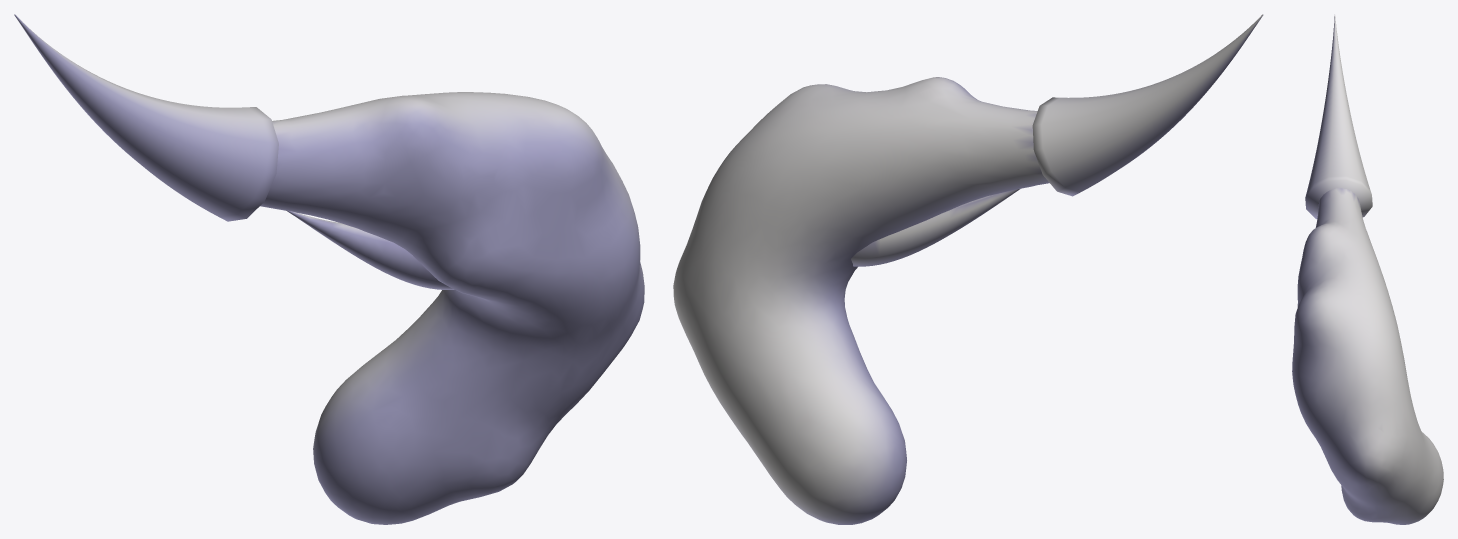
Rendered from gear5_corrente_b.fbx.
The picture shows the model from 3 angles, left to right: view 1: azimuth 30°, elevation 25°; view 2: azimuth 150°, elevation 25°; view 3: azimuth 270°, elevation 25°; orthographic projection. The views are drawn at different scales.
Visible parts, largest first — view 1: gear5_corrente_b; view 2: gear5_corrente_b; view 3: gear5_corrente_b.
Part boxes in pixels (bbox=[...]): gear5_corrente_b: bbox=[14, 14, 644, 524]; gear5_corrente_b: bbox=[673, 14, 1263, 524]; gear5_corrente_b: bbox=[1292, 14, 1443, 524].
Size of the model in its own units: 4.3 by 4.11 by 1.48.
